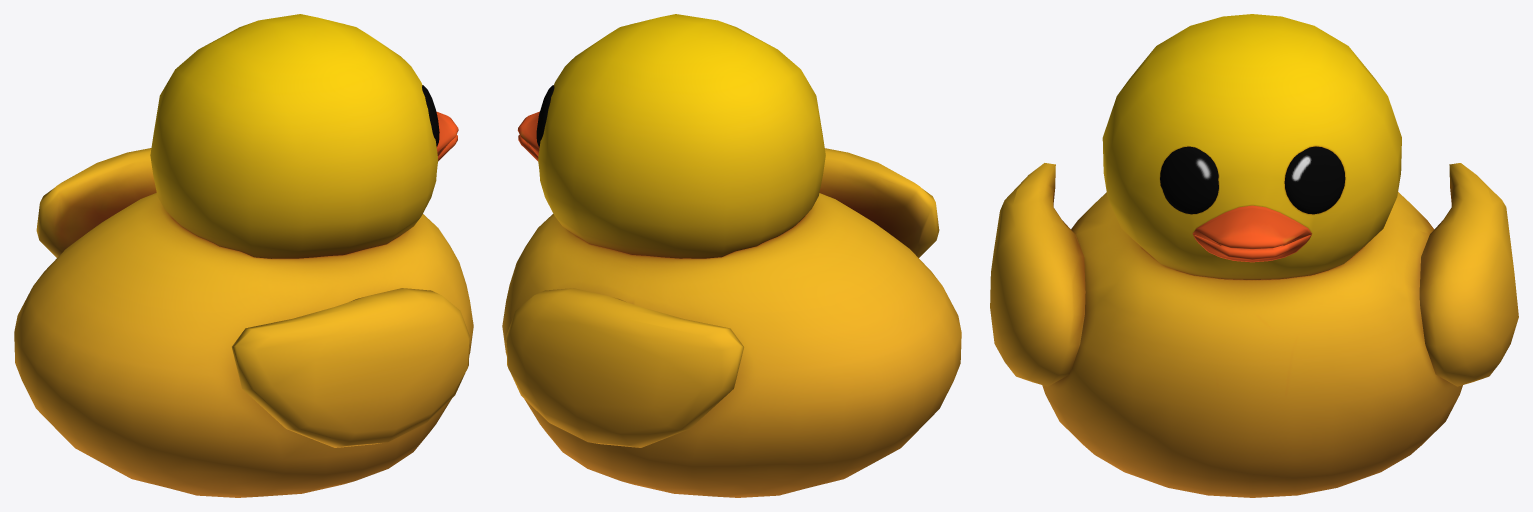
File: rubber_duck.glb
The picture shows the model from 3 angles, left to right: view 1: azimuth 30°, elevation 25°; view 2: azimuth 150°, elevation 25°; view 3: azimuth 270°, elevation 25°; orthographic projection. The views are drawn at different scales.
Parts seen in each view (by area): view 1: Object_2; view 2: Object_2; view 3: Object_2.
Part boxes in pixels (box(x1,y1,x2,y2)): Object_2: box(14, 14, 473, 497); Object_2: box(502, 14, 961, 497); Object_2: box(990, 14, 1518, 497).
Bounding box in the file's own units: 1.31 × 1.27 × 1.36.
1 material, 1 textured.
